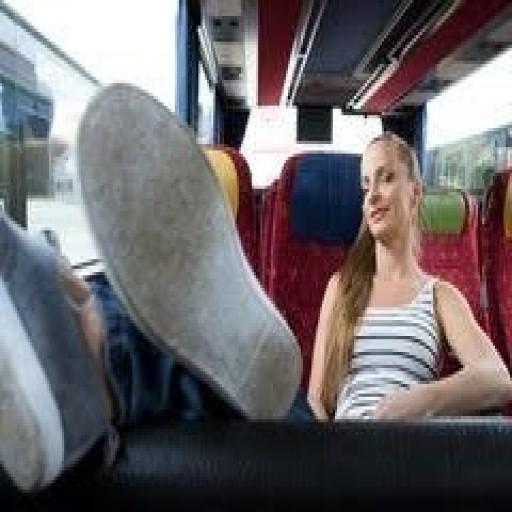sitting: (305, 128, 510, 422)
